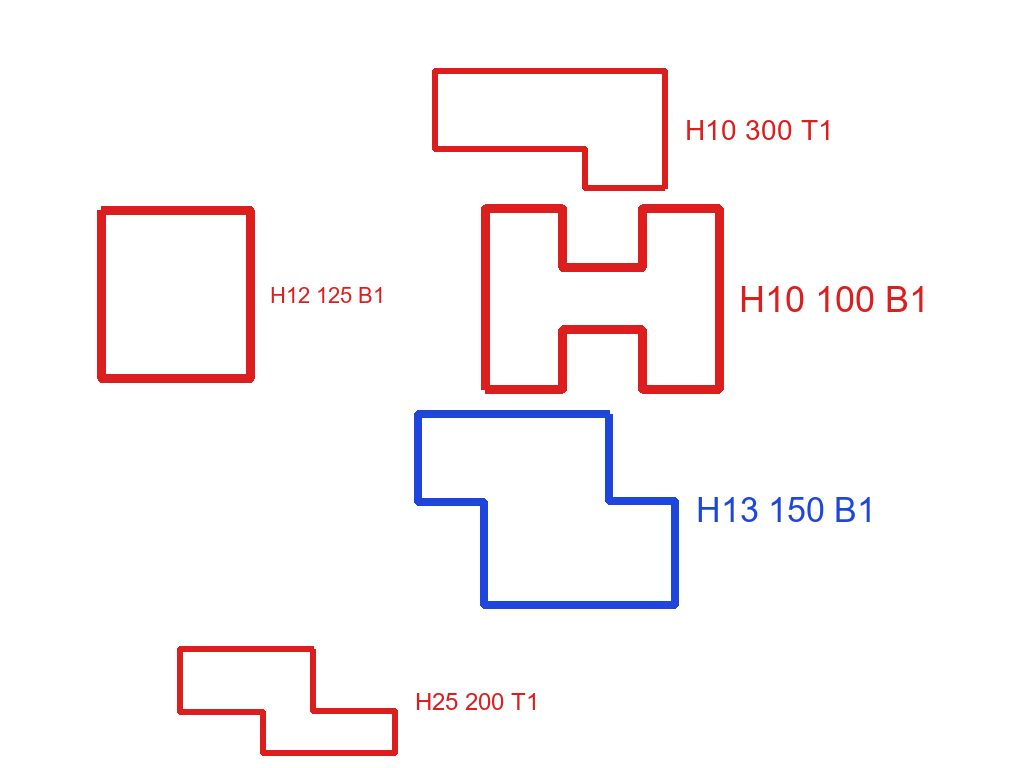shape: (412, 409, 682, 610), (479, 202, 726, 396), (431, 66, 670, 194), (95, 204, 257, 385), (175, 645, 400, 758)
text: (737, 284, 931, 314), (694, 495, 878, 524), (683, 118, 836, 142), (413, 691, 541, 712), (268, 285, 387, 305)
